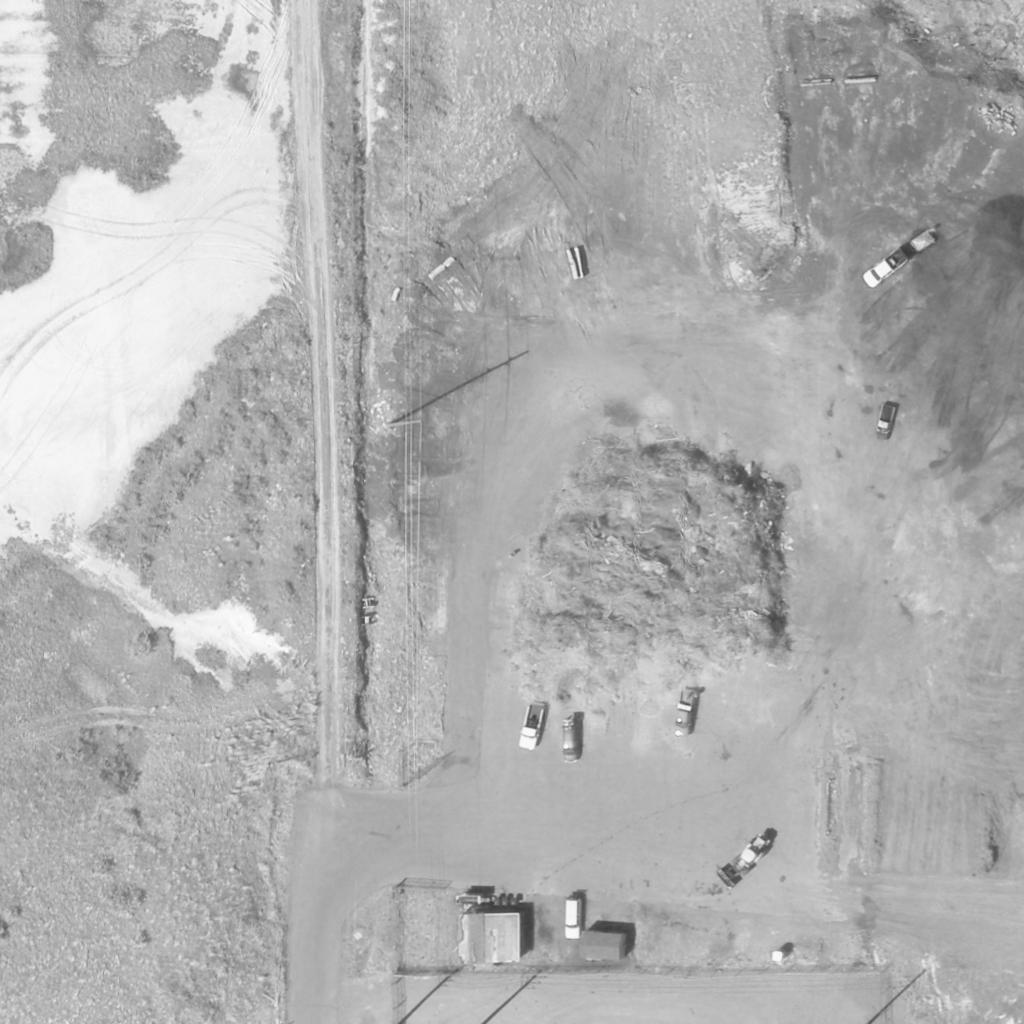vehicle: (719, 826, 773, 894), (861, 247, 913, 289), (670, 681, 702, 739), (516, 702, 550, 752), (562, 718, 584, 762), (875, 403, 897, 443), (563, 900, 583, 938)
